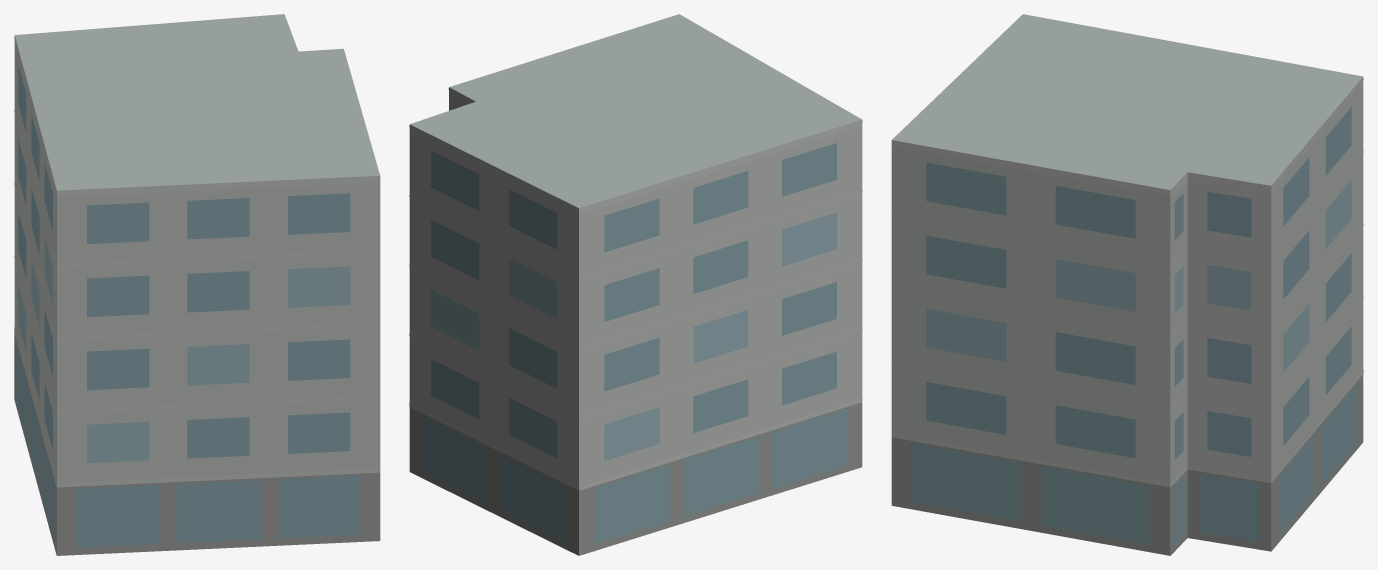
File: survey-upis-32727863.glb
The picture shows the model from 3 angles, left to right: view 1: azimuth 30°, elevation 25°; view 2: azimuth 150°, elevation 25°; view 3: azimuth 270°, elevation 25°; orthographic projection. The views are drawn at different scales.
Parts seen in each view (by area): view 1: survey-upis-32727863.tmp; view 2: survey-upis-32727863.tmp; view 3: survey-upis-32727863.tmp.
Part boxes in pixels (x1,y1,x2,y2): survey-upis-32727863.tmp: [14, 14, 380, 555]; survey-upis-32727863.tmp: [409, 14, 862, 555]; survey-upis-32727863.tmp: [891, 14, 1363, 555].
Bounding box in the file's own units: 13.25 × 12.8 × 14.99.
